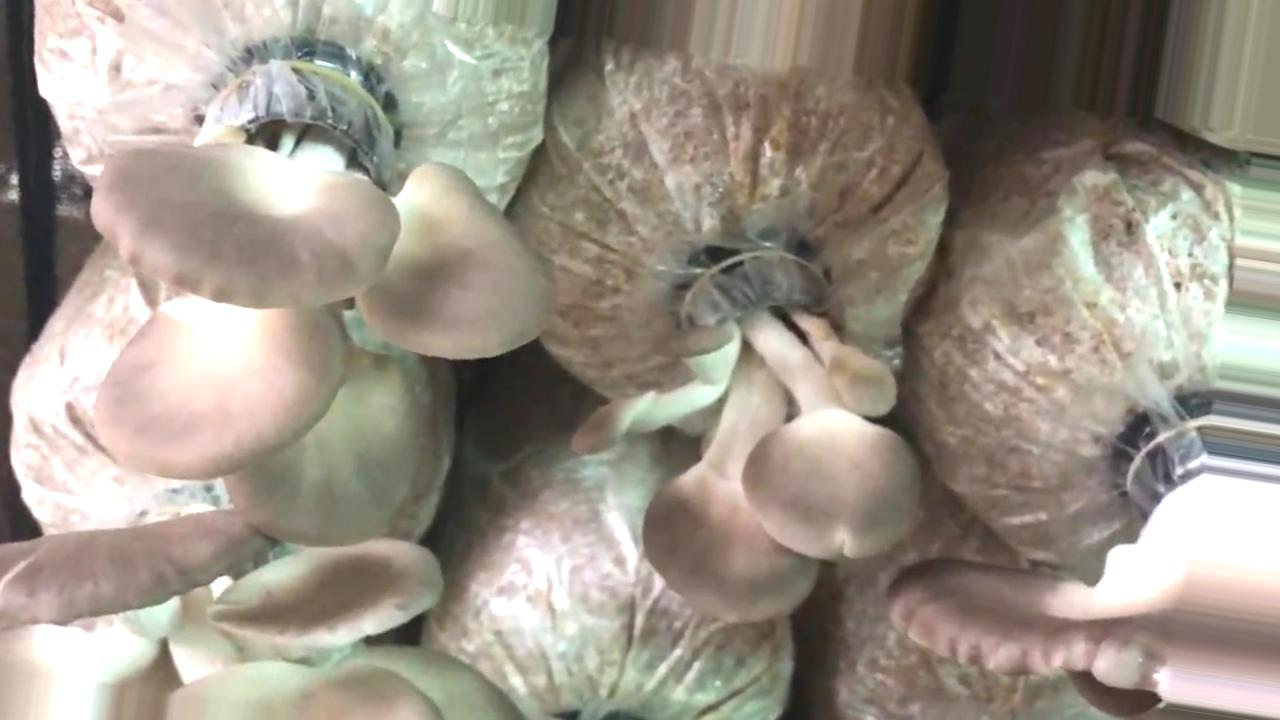nam: (88, 48, 557, 552), (567, 249, 923, 623), (1, 510, 527, 718), (909, 567, 1218, 681)
